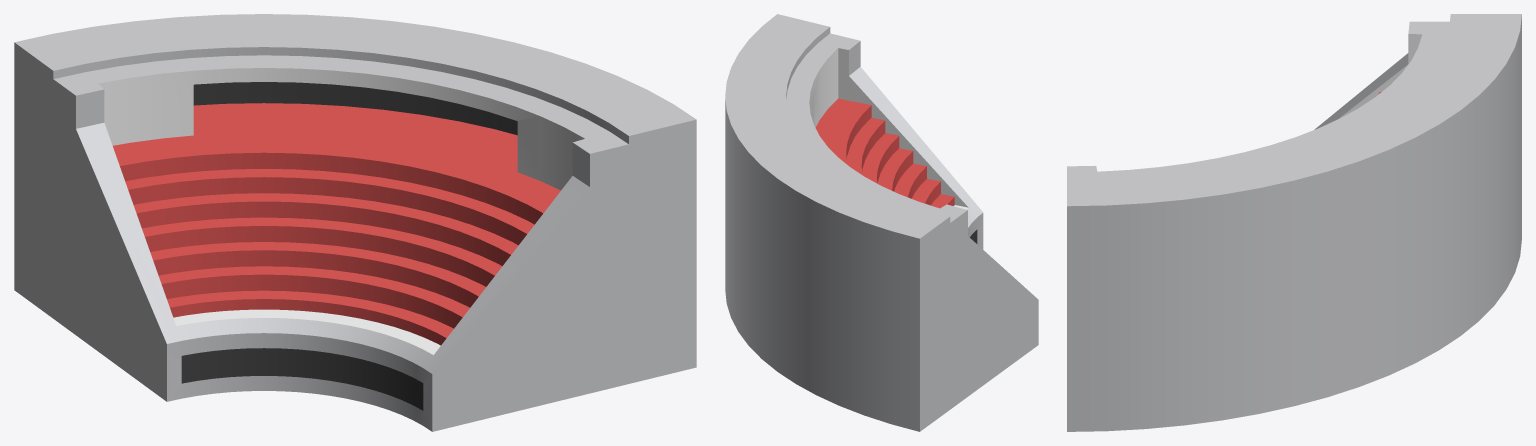
Rendered from grandStandRound.glb.
3 renders of one model, left to right at view 1: azimuth 30°, elevation 25°; view 2: azimuth 150°, elevation 25°; view 3: azimuth 270°, elevation 25°, orthographic. The views are drawn at different scales.
Visible parts, largest first — view 1: grandStandRound(Clone); view 2: grandStandRound(Clone); view 3: grandStandRound(Clone).
Boxes of the visible parts, box(x1,y1,x2,y2) form: grandStandRound(Clone): box(14, 14, 696, 431); grandStandRound(Clone): box(725, 14, 1038, 431); grandStandRound(Clone): box(1067, 14, 1521, 431).
Size of the model in its own units: 1.64 by 0.8963 by 1.64.
